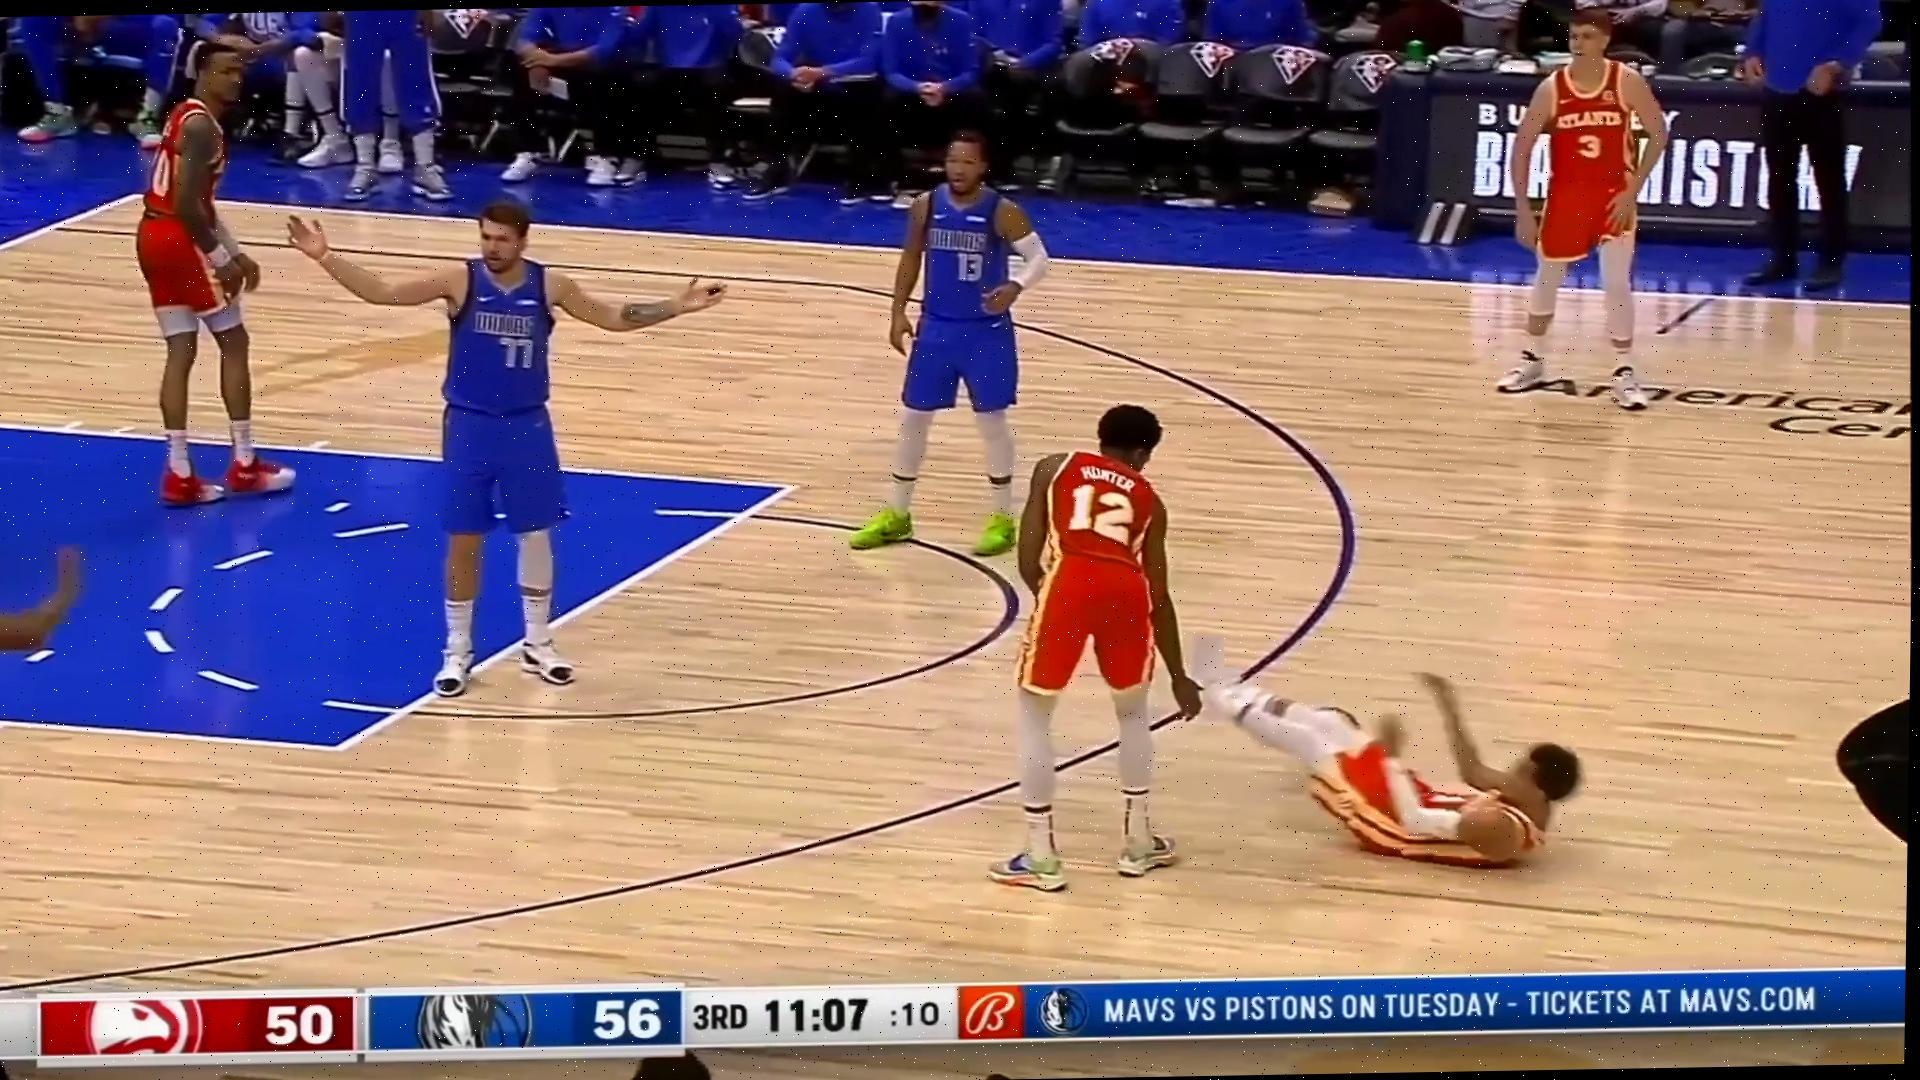no_foul: (853, 124, 1200, 880)
